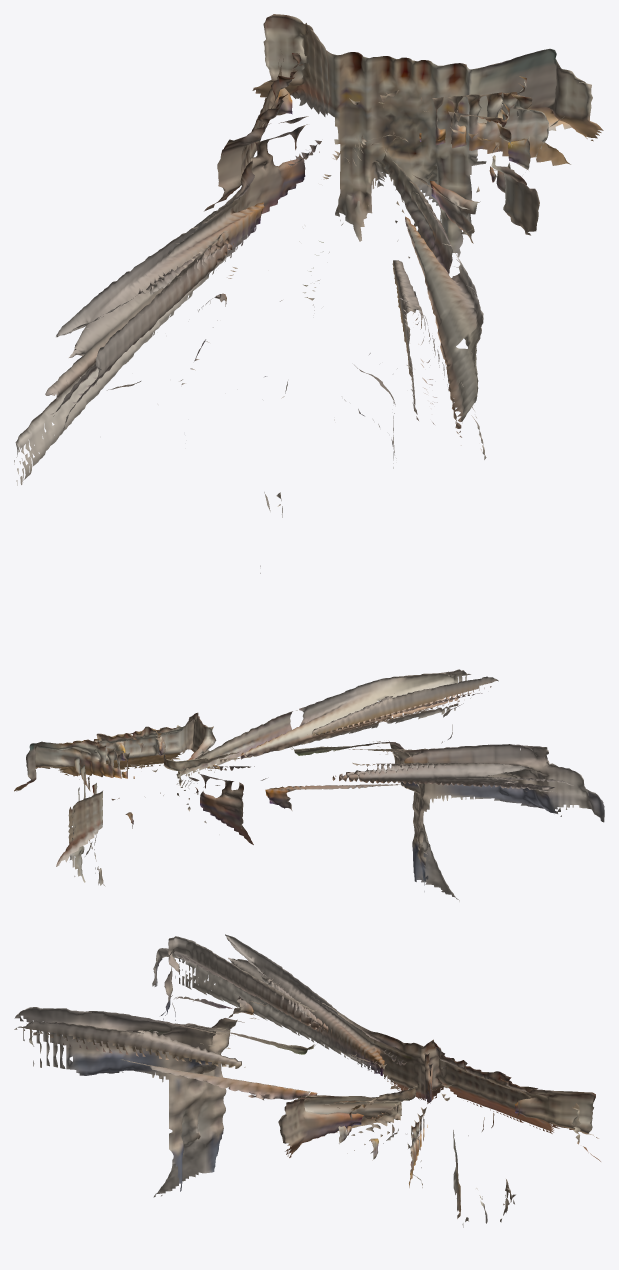
Rendered from collider.glb.
3 renders of one model, top to bottom at view 1: azimuth 30°, elevation 25°; view 2: azimuth 150°, elevation 25°; view 3: azimuth 270°, elevation 25°, orthographic. The views are drawn at different scales.
Visible parts, largest first — view 1: world; view 2: world; view 3: world.
Part boxes in pixels (x1,y1,x2,y2): world: (14,14,603,573); world: (14,669,604,901); world: (14,934,600,1227).
Size of the model in its own units: 15.65 by 6.02 by 15.3.
